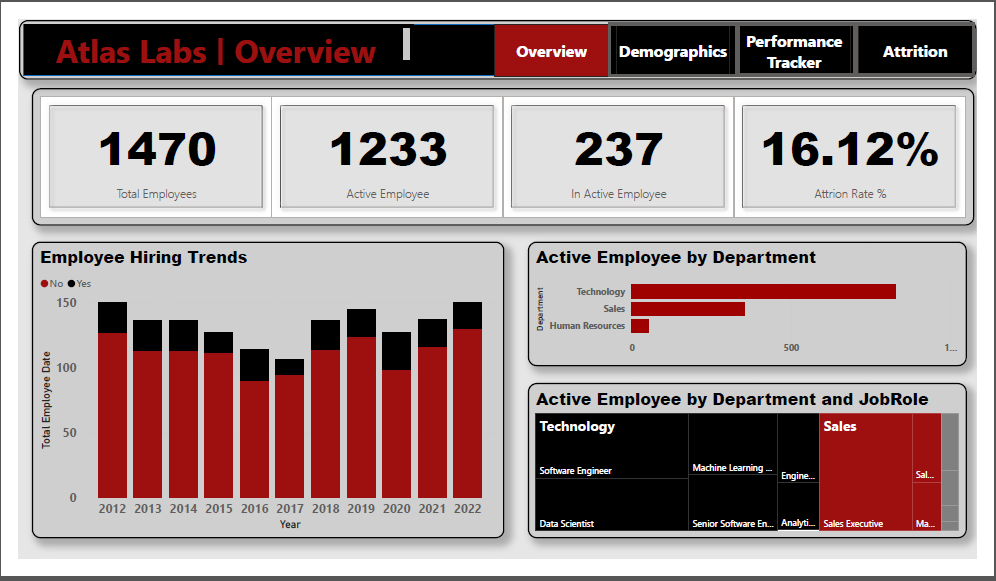

The dashboard page shown, as its layout file describes it:
{"tool":"powerbi","page":{"name":" Overview","canvas":[1280,720],"ordinal":0},"visuals":[{"type":"cardVisual","fields":{"Data":["_Measures.Total Employees","_Measures.Active Employee","_Measures.In Active Employee","_Measures.Attrion Rate %"]},"box":[17,90.7,1260,184.3],"z":0},{"type":"shape","box":[0,0,1280,80.1],"z":1000},{"type":"textbox","box":[7.1,5.7,520.2,59.5],"z":2000},{"type":"pageNavigator","box":[636.4,5.7,640.6,70.9],"z":3000},{"type":"actionButton","box":[788,4.3,171.6,71.5],"z":4000},{"type":"actionButton","box":[959.5,4.3,158.7,70.9],"z":5000},{"type":"actionButton","box":[1118.3,4.3,158.7,70.9],"z":6000},{"type":"columnChart","title":"Employee Hiring Trends","fields":{"Y":["_Measures.Total Employee Date"],"Category":["DimDate.Date.Variation.Date Hierarchy.Year"],"Series":["DimEmployee.Attrition"]},"box":[17,296.2,632.1,396.9],"z":7000},{"type":"clusteredBarChart","fields":{"Y":["_Measures.Active Employee"],"Category":["DimEmployee.Department"]},"box":[680.3,296.2,586.8,167.2],"z":8000},{"type":"treemap","fields":{"Values":["_Measures.Active Employee"],"Group":["DimEmployee.Department"],"Details":["DimEmployee.JobRole"]},"box":[680.3,484.7,586.8,208.3],"z":9000}]}

Visuals, with their boxes on the page's 1280x720 design canvas (x1, y1, x2, y2). These are canvas units, not pixel positions in the 996x581 screenshot, which may show the page scaled, cropped or inside an application window:
cardVisual - _Measures.Total Employees x _Measures.Active Employee: box=[17, 91, 1277, 275]
shape: box=[0, 0, 1280, 80]
textbox: box=[7, 6, 527, 65]
pageNavigator: box=[636, 6, 1277, 77]
actionButton: box=[788, 4, 960, 76]
actionButton: box=[960, 4, 1118, 75]
actionButton: box=[1118, 4, 1277, 75]
"Employee Hiring Trends" columnChart: box=[17, 296, 649, 693]
clusteredBarChart - _Measures.Active Employee x DimEmployee.Department: box=[680, 296, 1267, 463]
treemap - _Measures.Active Employee x DimEmployee.Department: box=[680, 485, 1267, 693]
